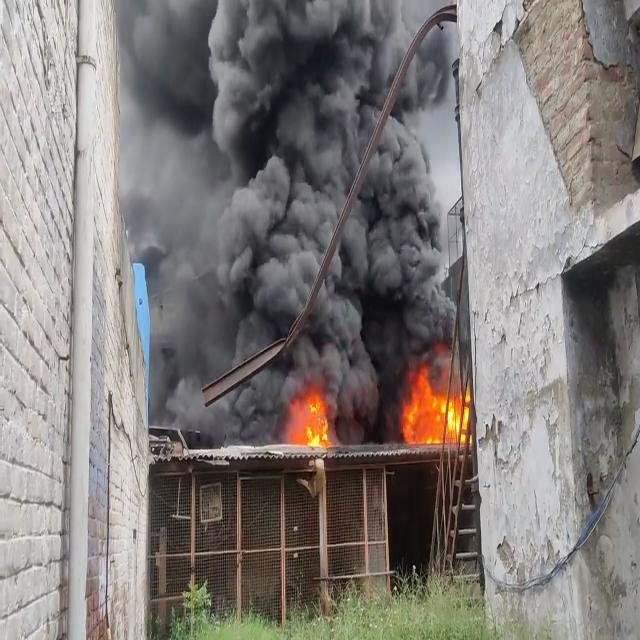Fire: (404, 365, 467, 448), (277, 387, 340, 457)
Smoke: (158, 0, 451, 421)
